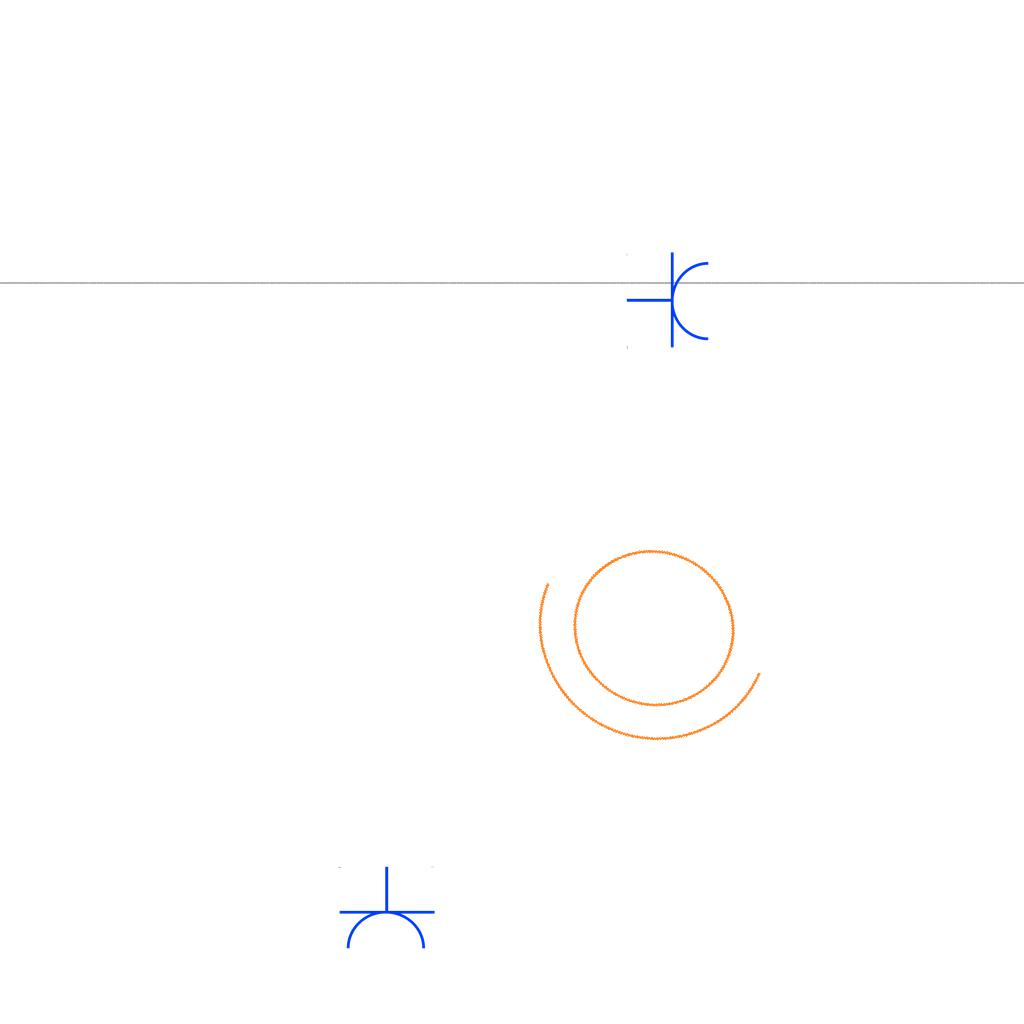Scheinwerfer_fuer_Alarmbeleuchtung: (490, 484, 822, 795)
Schukosteckdose_einfach: (336, 866, 436, 953), (626, 251, 713, 351)
